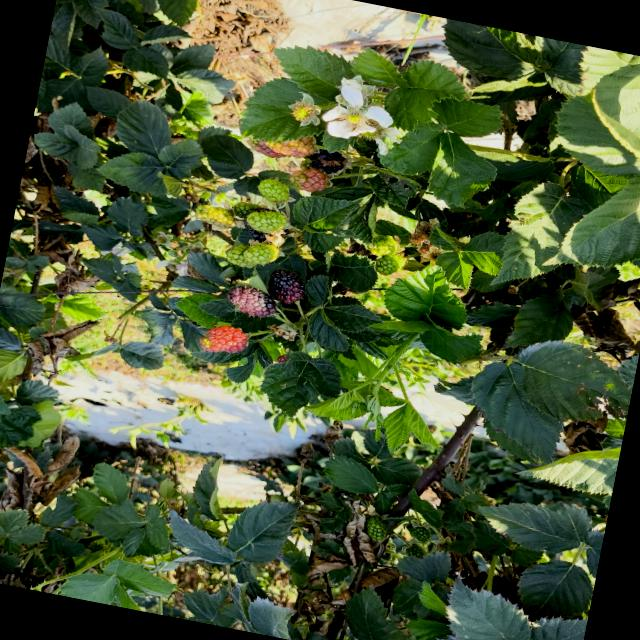flor: (322, 75, 393, 139)
marron: (227, 285, 276, 317), (269, 270, 305, 304)
naranja: (199, 326, 247, 353), (265, 137, 315, 158), (289, 169, 330, 193), (246, 139, 286, 158)
verde: (195, 205, 235, 229), (246, 211, 287, 233), (243, 244, 280, 265), (367, 235, 401, 257), (258, 179, 289, 202), (375, 254, 405, 276), (225, 246, 254, 267), (233, 202, 264, 219)
